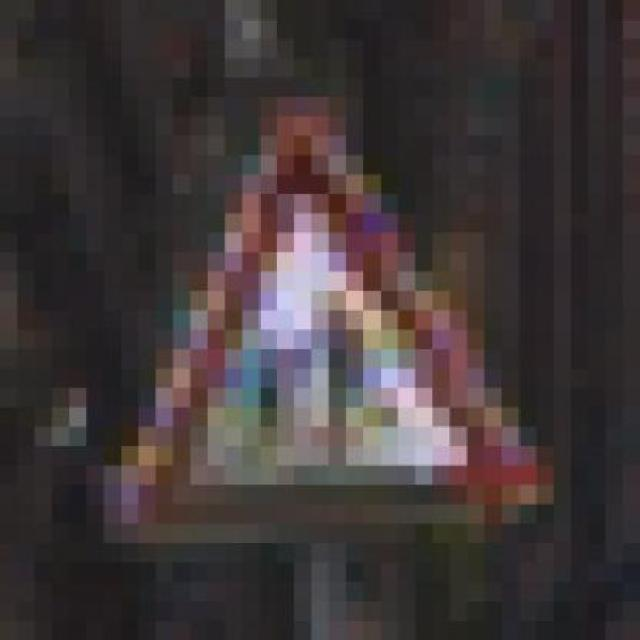Beware of children: (86, 112, 554, 558)
